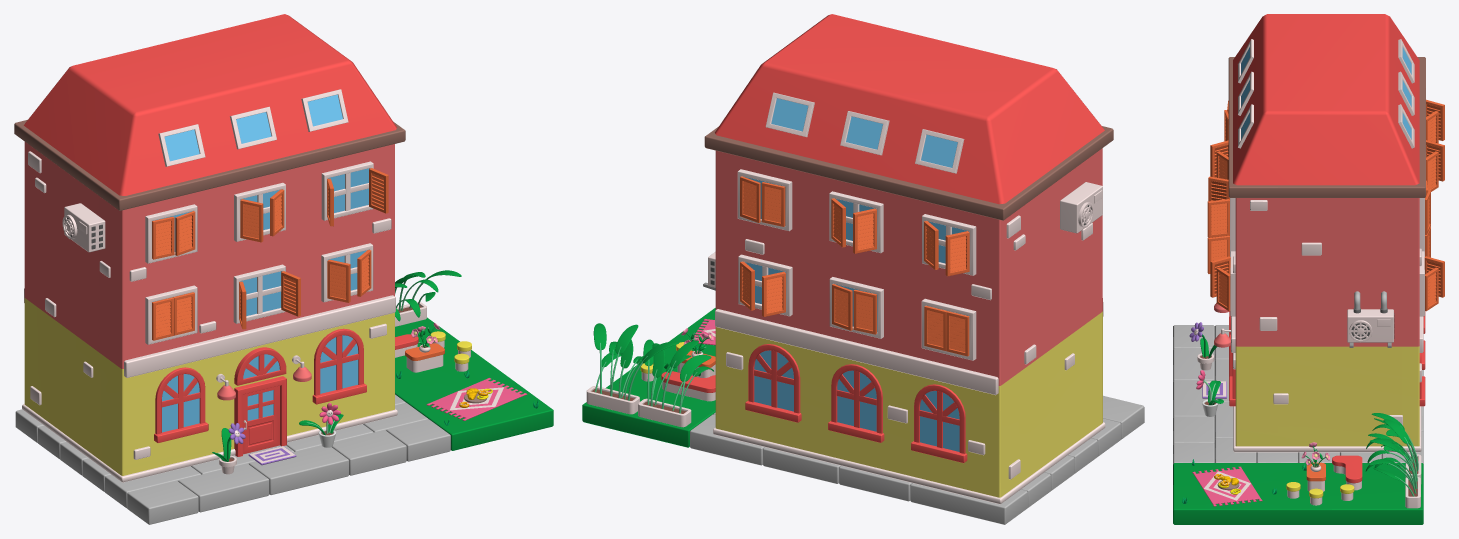
Rendered from City_Island_15.glb.
3 views of the same model, side by side, from view 1: azimuth 30°, elevation 25°; view 2: azimuth 150°, elevation 25°; view 3: azimuth 270°, elevation 25° (orthographic). The views are drawn at different scales.
Visible parts, largest first — view 1: City_15_House_1, City_15_Base_1, City_15_Base_2, City_15_Rug_1, City_15_Outdoor_Air_Conditioning_1, City_15_Plant_1, City_15_Table_1, City_15_Flower_2, City_15_Flower_1; view 2: City_15_House_1, City_15_Base_1, City_15_Base_2, City_15_Plant_1, City_15_Plant_2, City_15_Outdoor_Air_Conditioning_1, City_15_Bench_1; view 3: City_15_House_1, City_15_Base_2, City_15_Base_1, City_15_Outdoor_Air_Conditioning_2, City_15_Plant_1, City_15_Rug_1, City_15_Plant_2, City_15_Bench_1, City_15_Flower_2, City_15_Flower_1, City_15_Table_1, City_15_Flowers_1.
Part boxes in pixels (left/top/right/bottom): City_15_House_1: left=14, top=14, right=405, bottom=482; City_15_Base_1: left=15, top=394, right=450, bottom=524; City_15_Base_2: left=395, top=317, right=553, bottom=450; City_15_Rug_1: left=426, top=378, right=527, bottom=420; City_15_Outdoor_Air_Conditioning_1: left=62, top=203, right=105, bottom=252; City_15_Plant_1: left=395, top=270, right=461, bottom=326; City_15_Table_1: left=405, top=343, right=444, bottom=372; City_15_Flower_2: left=212, top=423, right=245, bottom=474; City_15_Flower_1: left=299, top=403, right=343, bottom=447; City_15_House_1: left=704, top=14, right=1113, bottom=504; City_15_Base_1: left=690, top=395, right=1144, bottom=524; City_15_Base_2: left=582, top=308, right=715, bottom=447; City_15_Plant_1: left=586, top=323, right=678, bottom=414; City_15_Plant_2: left=638, top=339, right=713, bottom=427; City_15_Outdoor_Air_Conditioning_1: left=1060, top=182, right=1102, bottom=233; City_15_Bench_1: left=661, top=371, right=715, bottom=401; City_15_House_1: left=1207, top=14, right=1444, bottom=452; City_15_Base_2: left=1173, top=463, right=1423, bottom=524; City_15_Base_1: left=1173, top=325, right=1423, bottom=463; City_15_Outdoor_Air_Conditioning_2: left=1347, top=291, right=1394, bottom=347; City_15_Plant_1: left=1365, top=419, right=1420, bottom=508; City_15_Rug_1: left=1192, top=466, right=1262, bottom=506; City_15_Plant_2: left=1366, top=413, right=1421, bottom=483; City_15_Bench_1: left=1332, top=455, right=1362, bottom=490; City_15_Flower_2: left=1189, top=322, right=1216, bottom=370; City_15_Flower_1: left=1196, top=370, right=1223, bottom=416; City_15_Table_1: left=1306, top=462, right=1325, bottom=491; City_15_Flowers_1: left=1301, top=442, right=1330, bottom=471.
Size of the model in its own units: 16.21 by 13.23 by 9.48.
30 materials, 30 textured.
